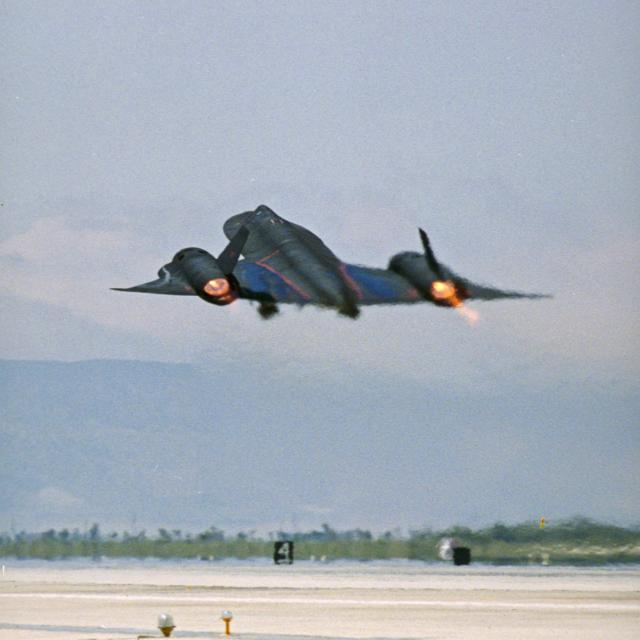MIL_Plane: (109, 204, 554, 320)
